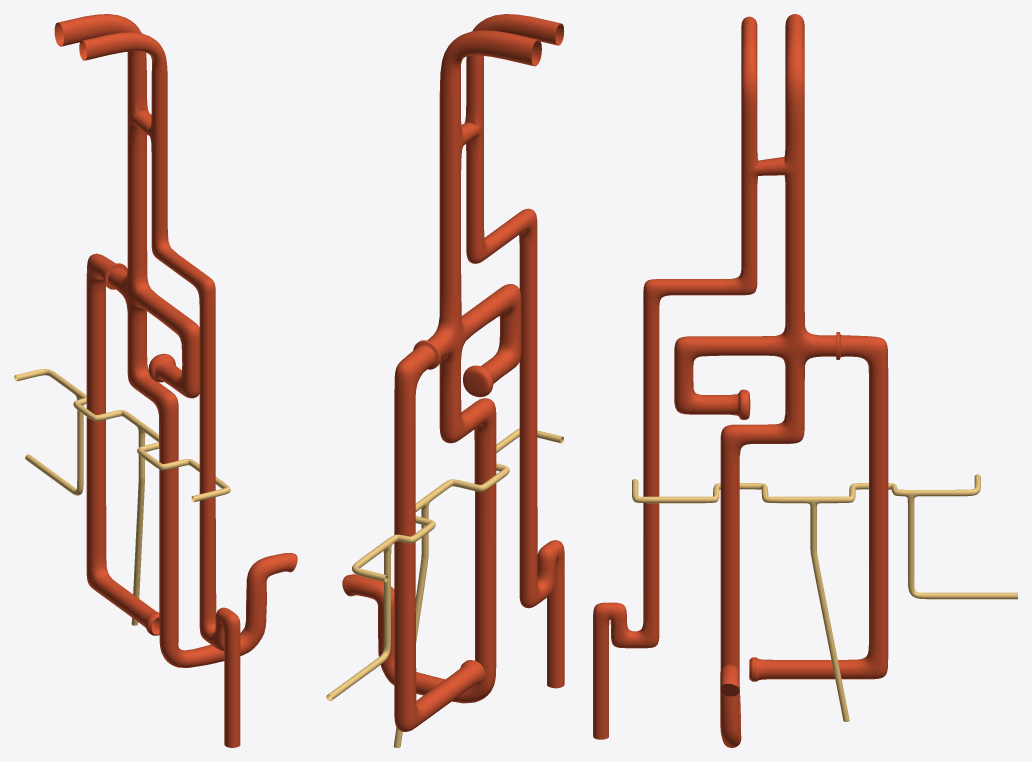
File: rorkroll.fbx
The picture shows the model from 3 angles, left to right: view 1: azimuth 30°, elevation 25°; view 2: azimuth 150°, elevation 25°; view 3: azimuth 270°, elevation 25°; orthographic projection. The views are drawn at different scales.
Parts seen in each view (by area): view 1: Body1, Body2; view 2: Body1, Body2; view 3: Body1, Body2.
Part boxes in pixels (x1=…): Body1: x1=54, y1=14, x2=297, y2=747; Body2: x1=14, y1=369, x2=230, y2=625; Body1: x1=342, y1=14, x2=564, y2=731; Body2: x1=326, y1=428, x2=563, y2=747; Body1: x1=593, y1=14, x2=888, y2=747; Body2: x1=632, y1=474, x2=1017, y2=721.
Size of the model in its own units: 742 by 2324 by 1309.
